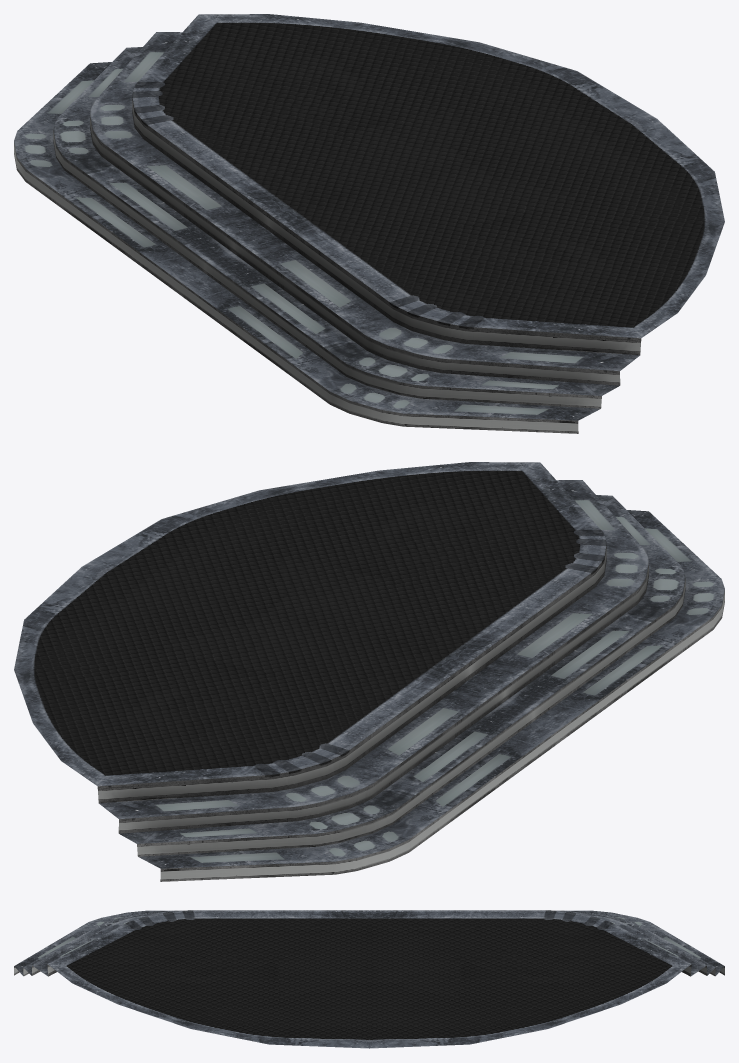
Rendered from stairs.fbx.
The picture shows the model from 3 angles, top to bottom: view 1: azimuth 30°, elevation 25°; view 2: azimuth 150°, elevation 25°; view 3: azimuth 270°, elevation 25°; orthographic projection. The views are drawn at different scales.
Visible parts, largest first — view 1: PanelStair; view 2: PanelStair; view 3: PanelStair.
Boxes of the visible parts, left/top/right/bottom form: PanelStair: left=14, top=14, right=724, bottom=433; PanelStair: left=14, top=462, right=724, bottom=881; PanelStair: left=14, top=910, right=724, bottom=1048.
Bounding box in the file's own units: 433 × 50.03 × 765.
